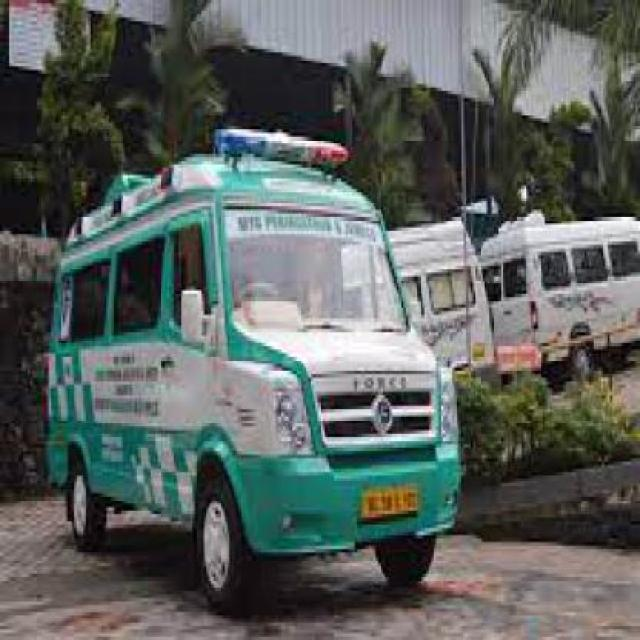Ambulance: (34, 118, 636, 617), (0, 490, 638, 638), (474, 209, 638, 386)
